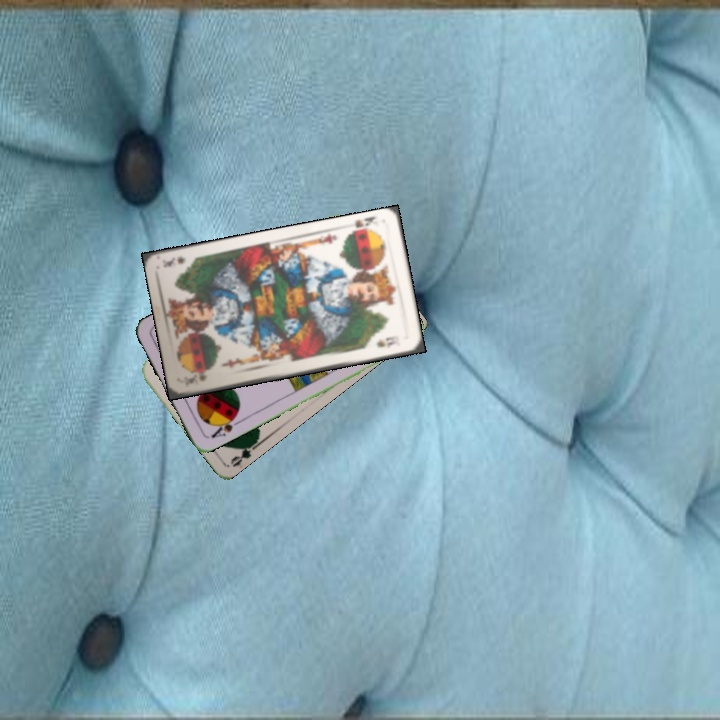GO: (226, 436, 263, 469)
SA: (207, 411, 243, 441)
SK: (345, 213, 380, 237), (185, 368, 210, 386)
